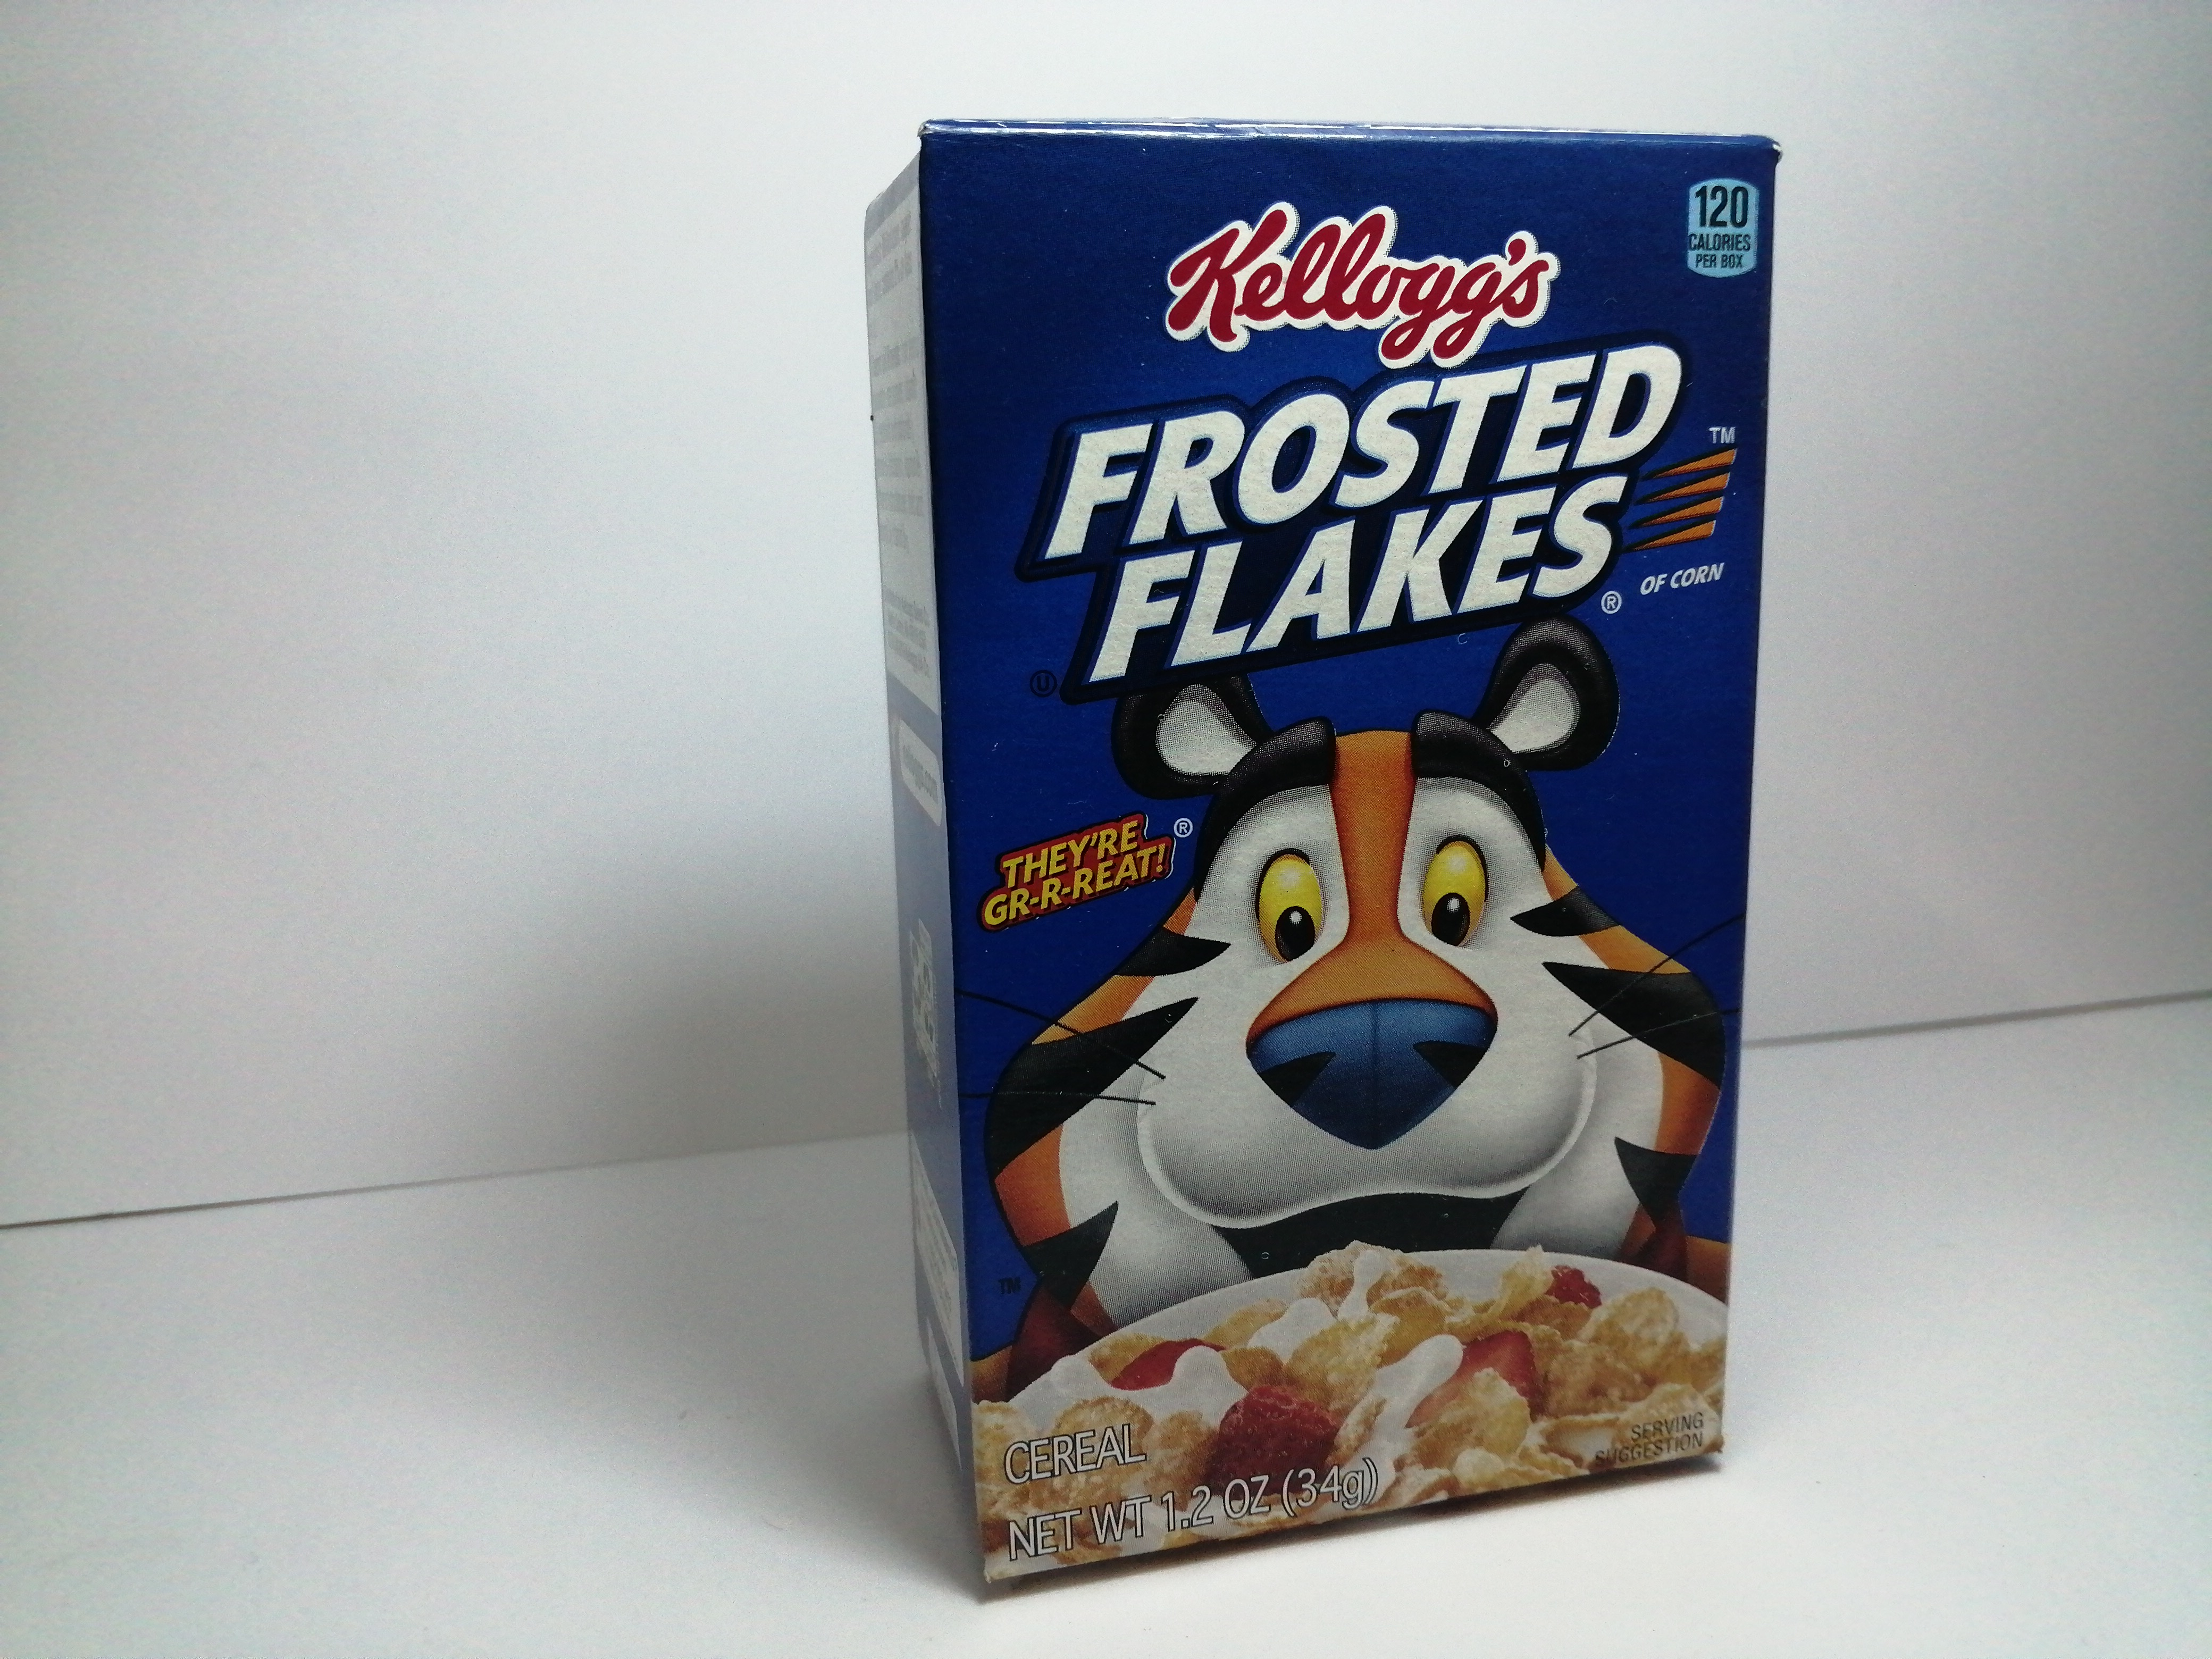cereal azucarado: (824, 51, 1815, 1605)
